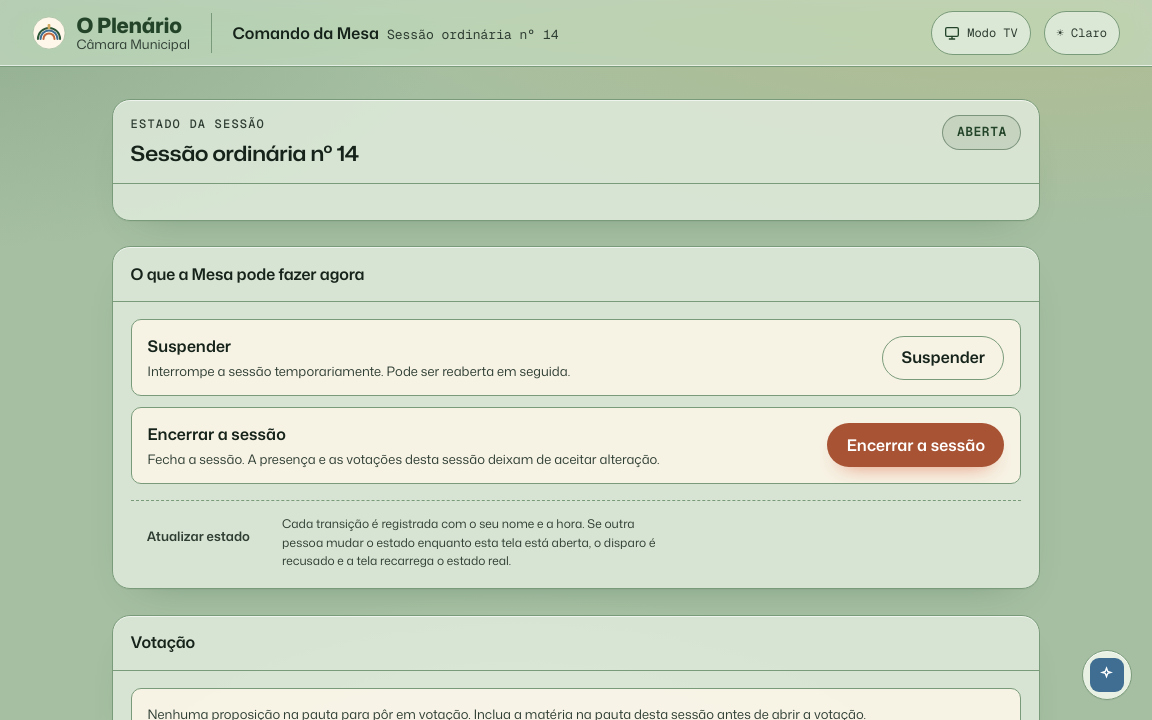
Comando da Mesa — a Clara (ADR-0024, fatia 5) › a secretaria tem a Clara, recolhida; aberta, mostra a sessão desta tela
Expected: the header named "Pergunte à Clara" is shown, [0,0,1151,67]
Click the button named "Pergunte à Clara": (1107, 675) [1082,650,1132,700]
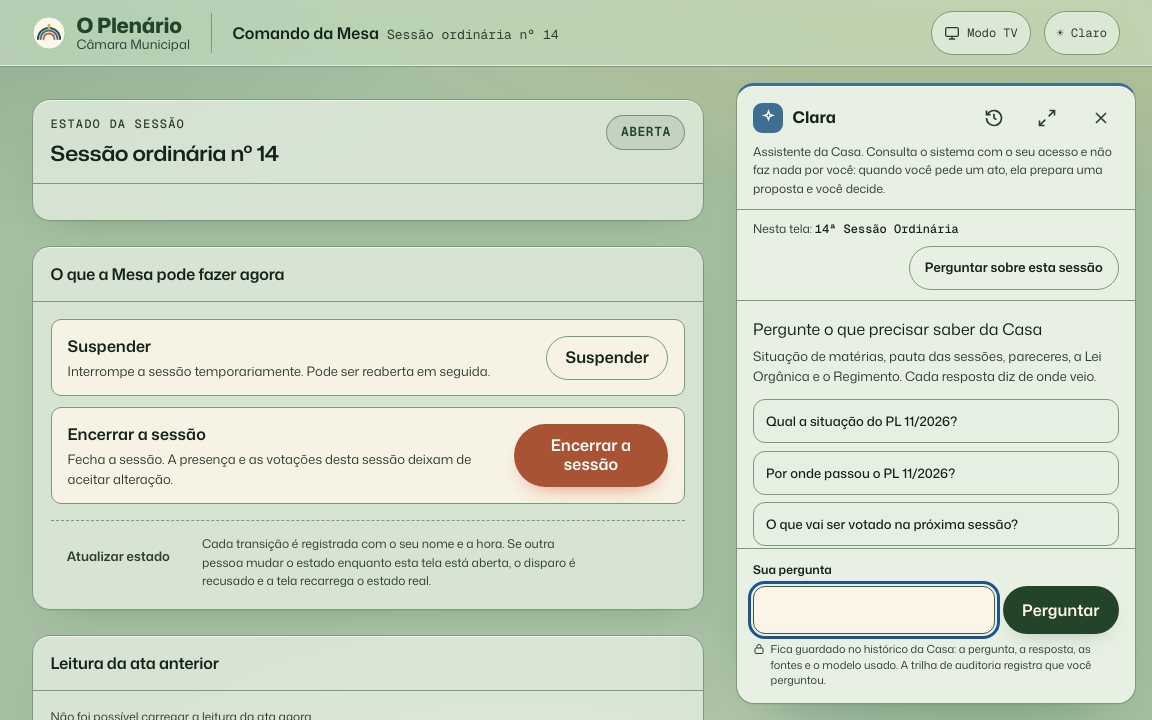
Expected: the element with class "ast" shows "Nesta tela: 14ª Sessão Ordinária", [736,83,1136,704]
Expected: the button "Perguntar sobre esta sessão" is shown, [909,246,1119,290]
